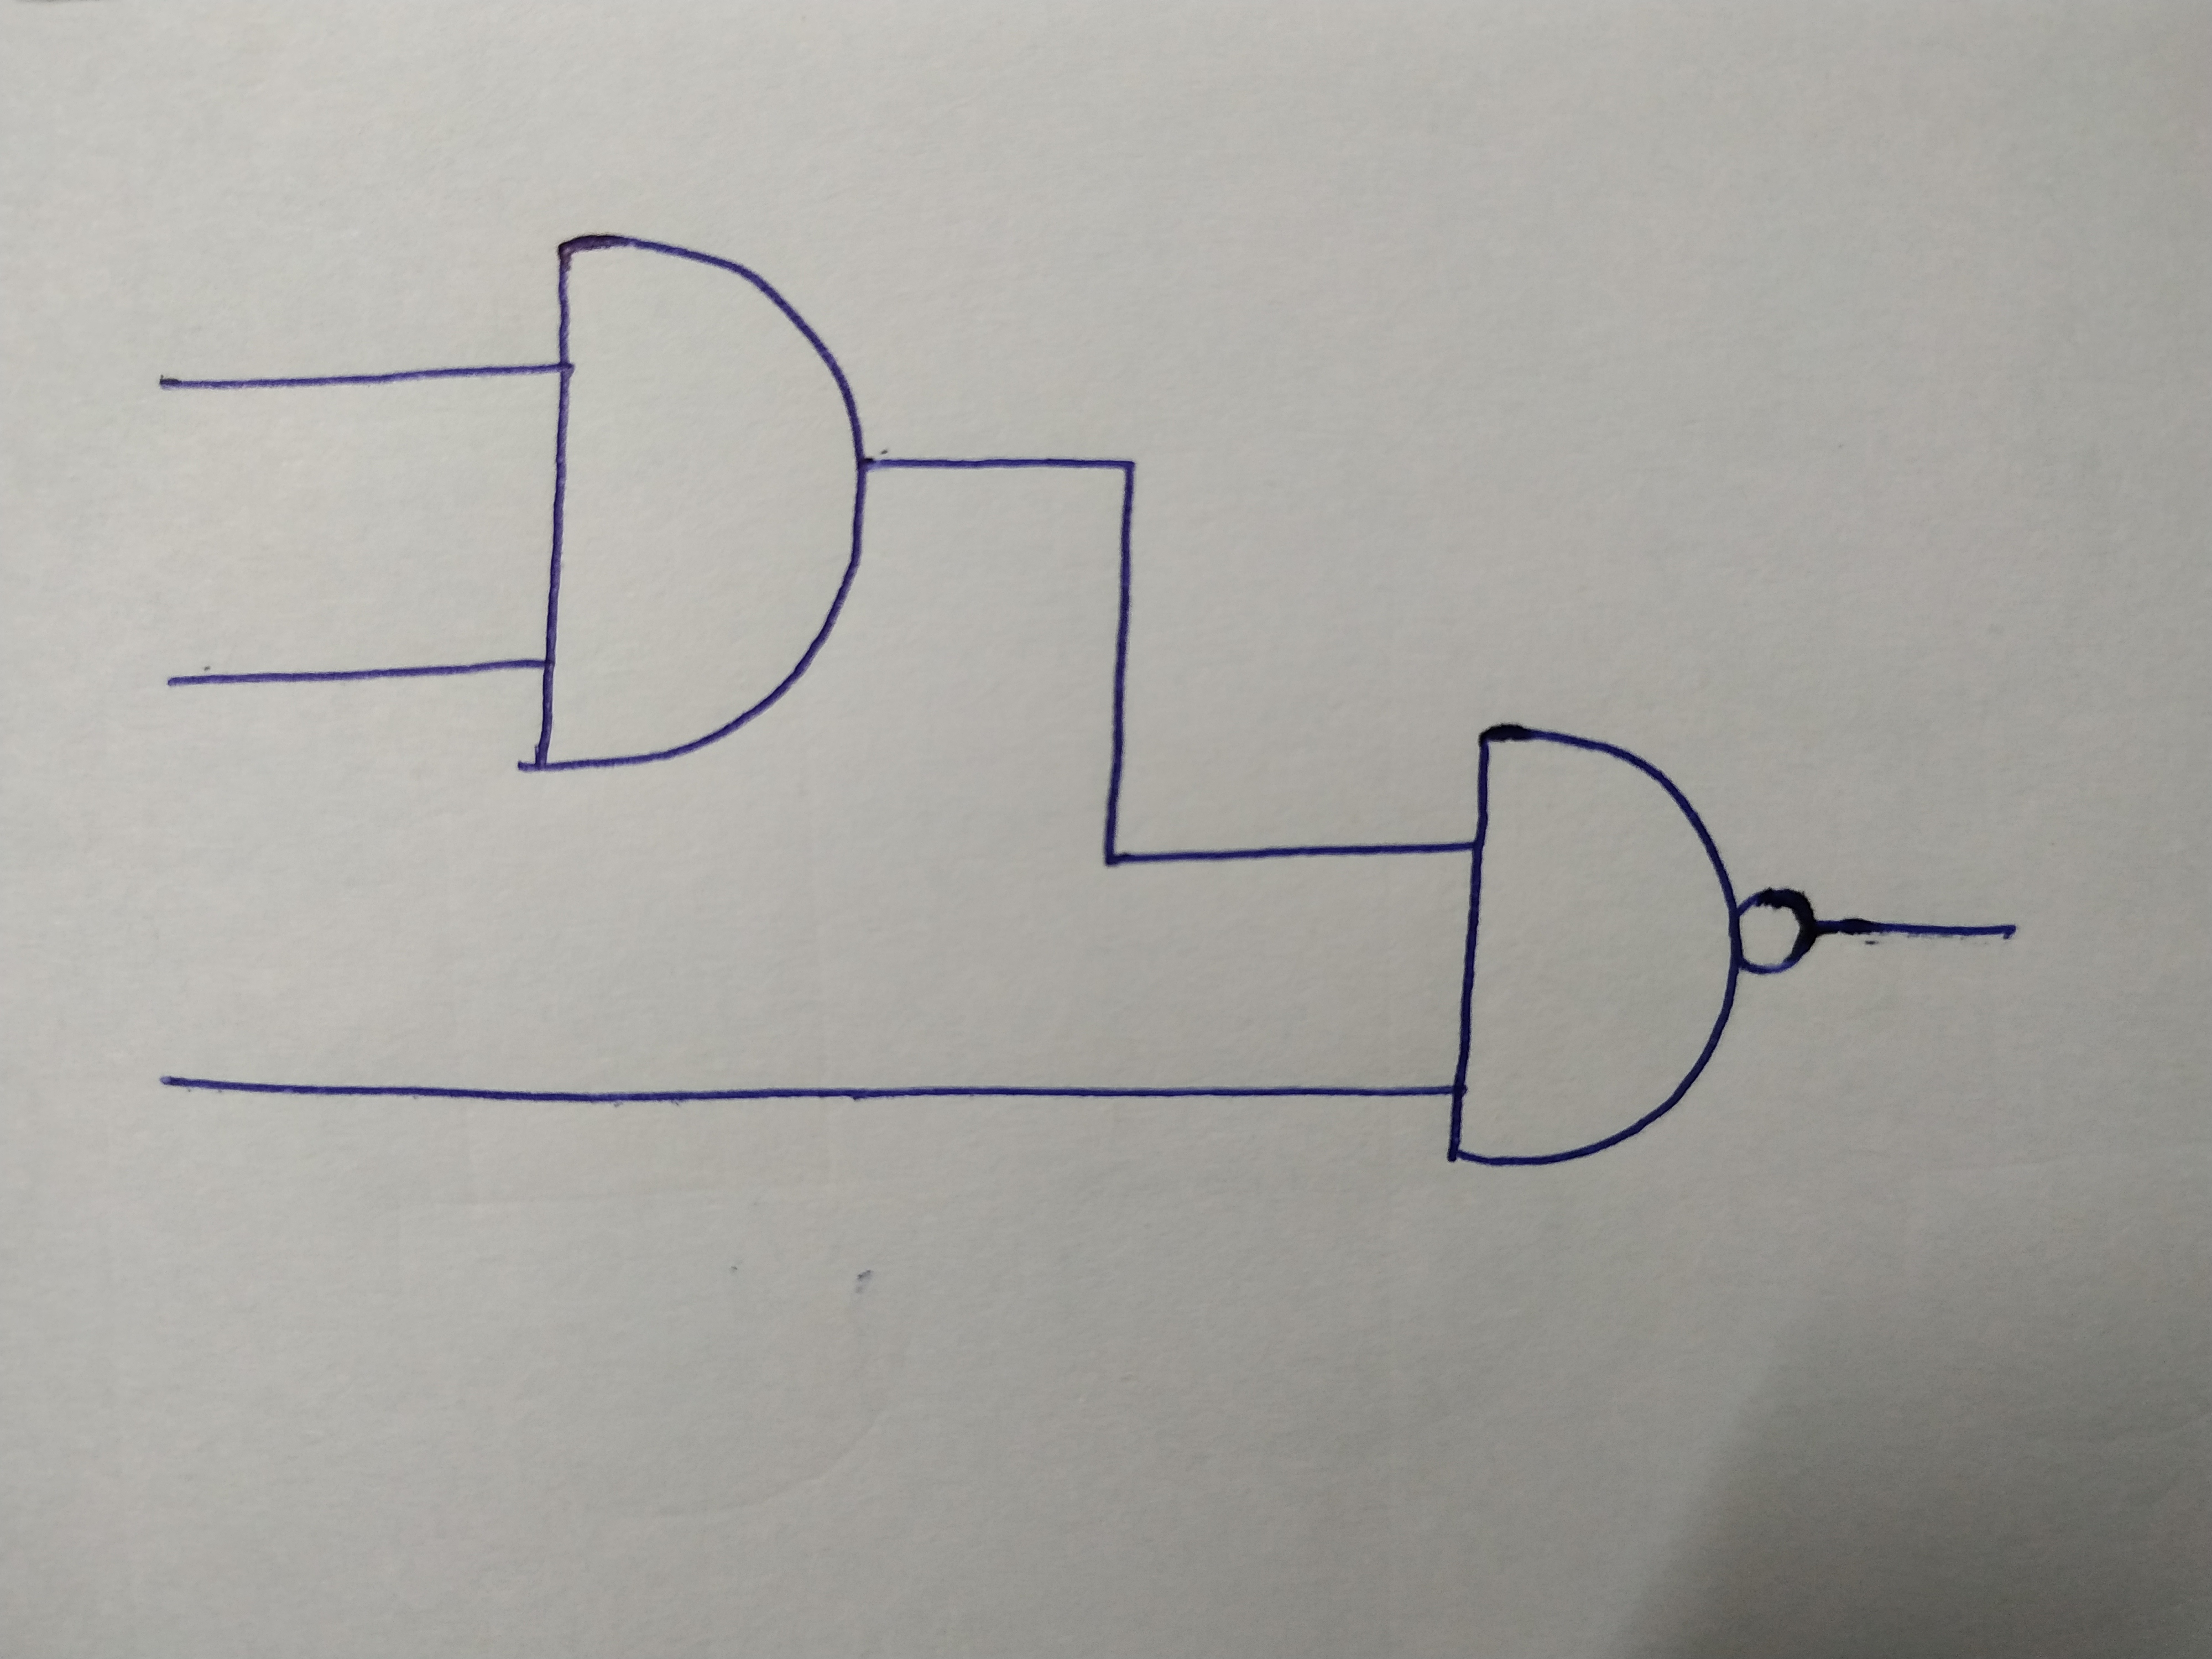and: (535, 228, 873, 777), (1447, 723, 1731, 1168)
not: (1738, 894, 1810, 972)
